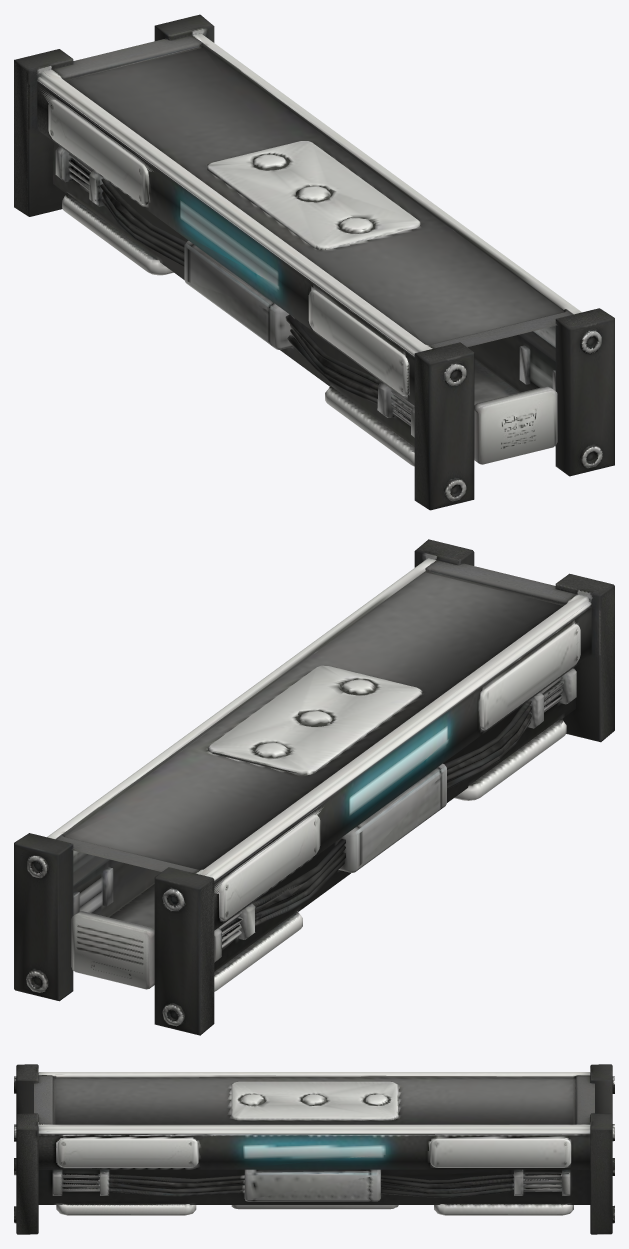
The model's file is tripo_convert_266a3981-ee91-4890-9913-dc93bef2b493.fbx.
3 renders of one model, top to bottom at view 1: azimuth 30°, elevation 25°; view 2: azimuth 150°, elevation 25°; view 3: azimuth 270°, elevation 25°, orthographic. The views are drawn at different scales.
Visible parts, largest first — view 1: tripo_node_266a3981; view 2: tripo_node_266a3981; view 3: tripo_node_266a3981.
Part boxes in pixels (x1,y1,x2,y2): tripo_node_266a3981: [14, 14, 614, 510]; tripo_node_266a3981: [14, 539, 614, 1035]; tripo_node_266a3981: [14, 1064, 614, 1234].
Bounding box in the file's own units: 0.2559 × 0.1934 × 0.998.
1 material, 1 textured.
